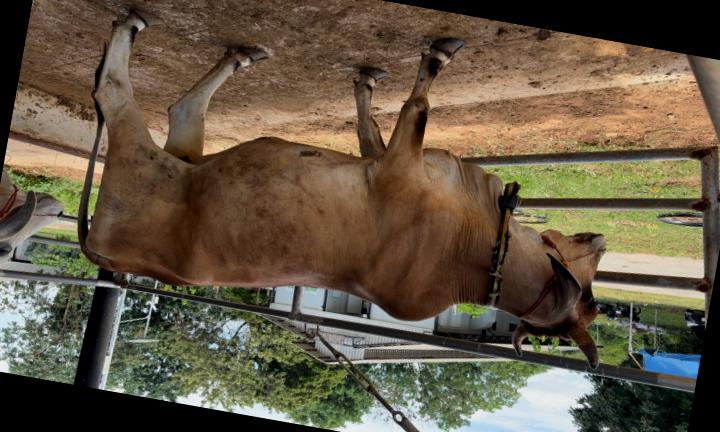Brahman: (79, 11, 605, 370)
